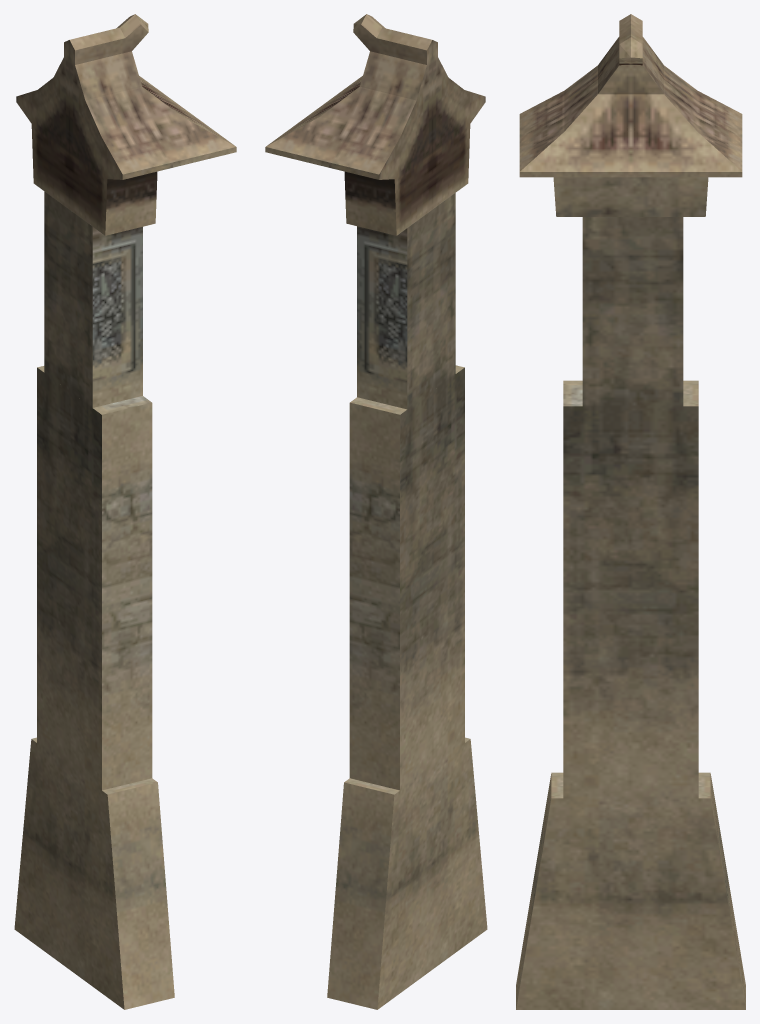
File: desert-middledam-06.fbx
3 renders of one model, left to right at view 1: azimuth 30°, elevation 25°; view 2: azimuth 150°, elevation 25°; view 3: azimuth 270°, elevation 25°, orthographic. The views are drawn at different scales.
Visible parts, largest first — view 1: desert-middledam-02; view 2: desert-middledam-02; view 3: desert-middledam-02.
Boxes of the visible parts, bbox=[...] form: desert-middledam-02: bbox=[14, 14, 236, 1009]; desert-middledam-02: bbox=[265, 14, 487, 1009]; desert-middledam-02: bbox=[516, 14, 745, 1009].
Bounding box in the file's own units: 1.01 × 8.01 × 1.7.
